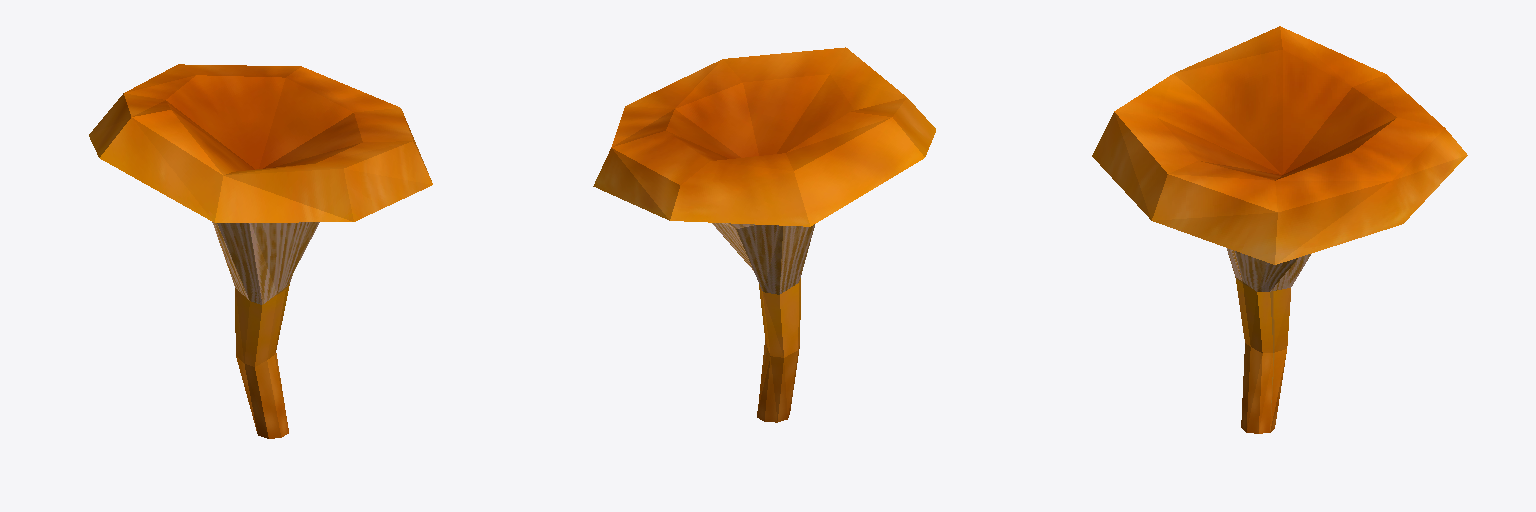
The picture shows the model from 3 angles: view 1: azimuth 30°, elevation 25°; view 2: azimuth 150°, elevation 25°; view 3: azimuth 270°, elevation 25°; orthographic projection.
Visible parts, largest first — view 1: chanterelles_low; view 2: chanterelles_low; view 3: chanterelles_low.
Part boxes in pixels (x1,y1,x2,y2): chanterelles_low: (89, 64, 432, 438); chanterelles_low: (593, 47, 935, 422); chanterelles_low: (1092, 26, 1467, 433).
Bounding box in the file's own units: 0.5714 × 0.5882 × 0.5925.
Materials: 1 (1 with a texture image).